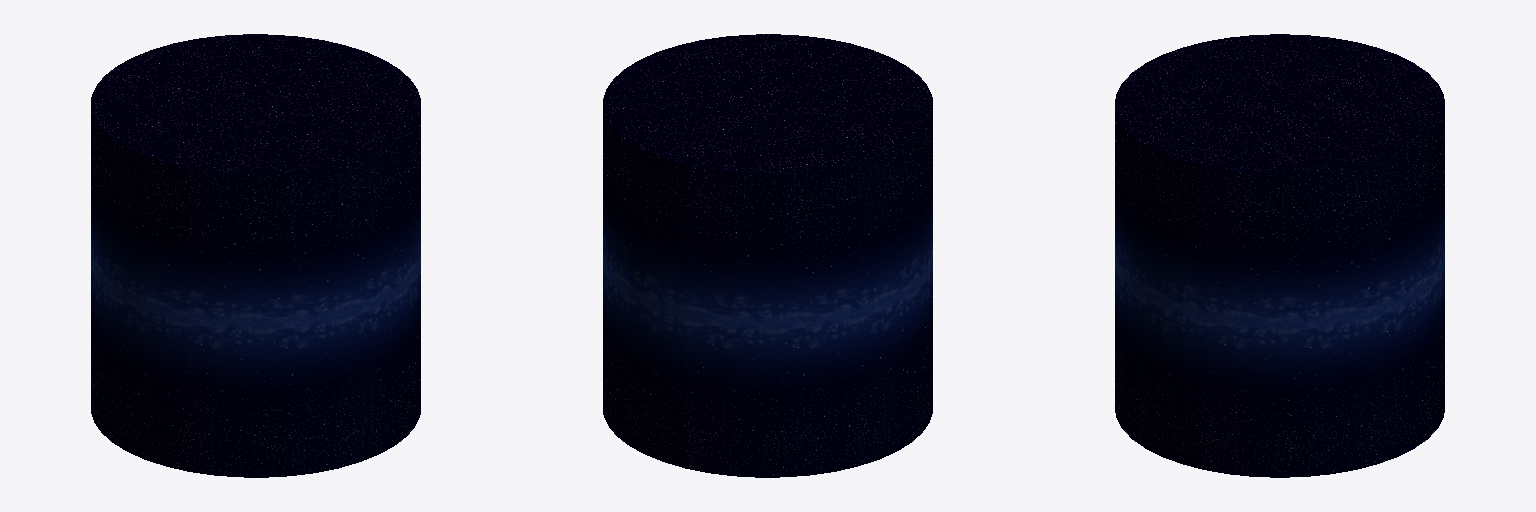
The picture shows the model from 3 angles: view 1: azimuth 30°, elevation 25°; view 2: azimuth 150°, elevation 25°; view 3: azimuth 270°, elevation 25°; orthographic projection.
Parts seen in each view (by area): view 1: map; view 2: map; view 3: map.
Part boxes in pixels (x1,y1,x2,y2): map: (91, 34, 420, 477); map: (603, 34, 932, 477); map: (1115, 34, 1444, 477).
Size of the model in its own units: 595391 by 603101 by 595391.
3 materials, 3 textured.